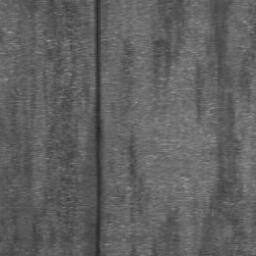Scratches: (94, 0, 101, 256)
